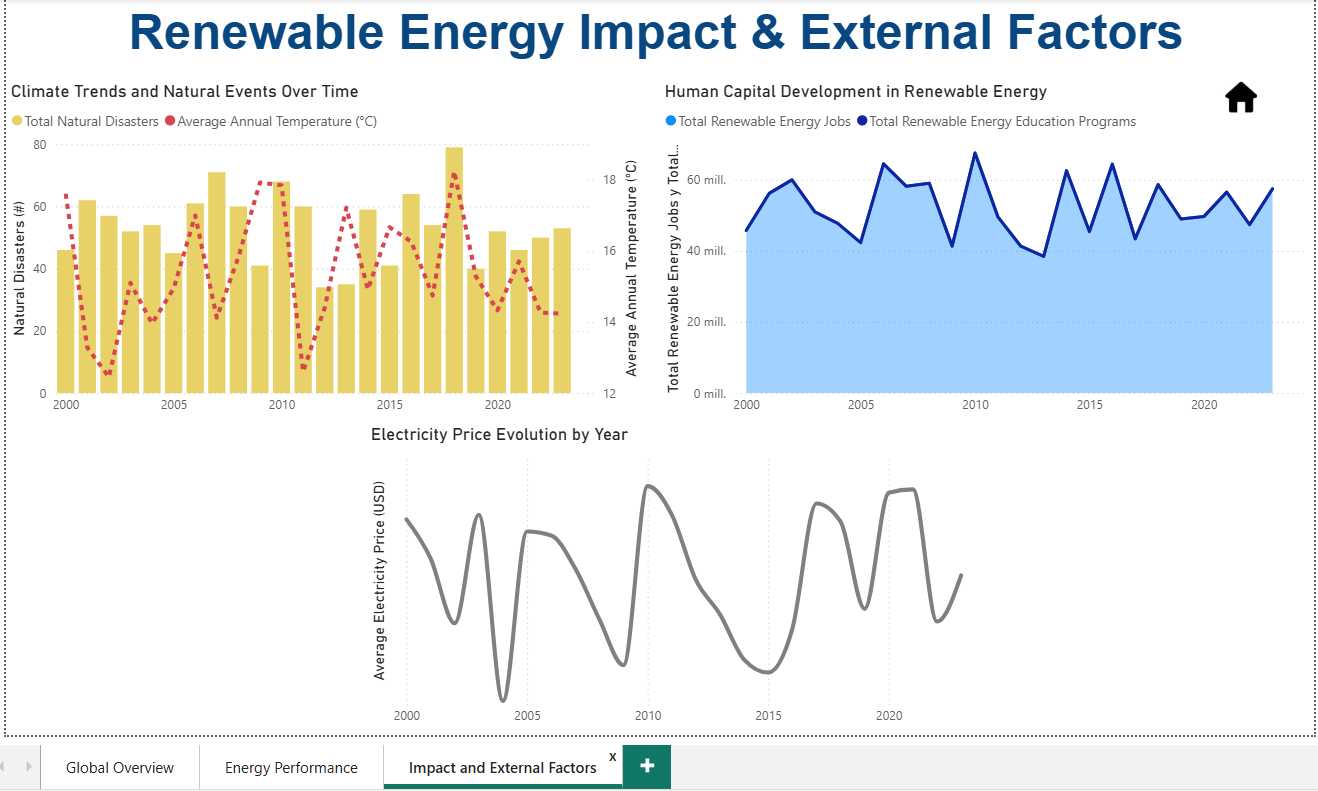

What the dashboard file says about the page in this screenshot:
{"tool":"powerbi","page":{"name":"Impact and External Factors","canvas":[1280,720],"ordinal":2},"visuals":[{"type":"stackedAreaChart","title":"Human Capital Development in Renewable Energy","fields":{"Y":["FactRenewables.Total Renewable Energy Jobs","FactRenewables.Total Renewable Energy Education Programs"],"Category":["Dim_Date.Year"]},"box":[640,80,640,336],"z":0},{"type":"lineChart","title":"Electricity Price Evolution by Year","fields":{"Y":["FactRenewables.Average Electricity Price (USD)"],"Category":["Dim_Date.Year"]},"box":[352,416,624,304],"z":1000},{"type":"lineStackedColumnComboChart","title":"Climate Trends and Natural Events Over Time","fields":{"Category":["FactRenewables.Year"],"Y2":["FactRenewables.Average Annual Temperature (°C)"],"Y":["FactRenewables.Total Natural Disasters"]},"box":[0,80,624,336],"z":2000},{"type":"textbox","box":[0,0,1272,72],"z":3000},{"type":"image","box":[1168,64,80,64],"z":7001}]}

Visuals, with their boxes on the page's 1280x720 design canvas (x1, y1, x2, y2). These are canvas units, not pixel positions in the 1318x791 screenshot, which may show the page scaled, cropped or inside an application window:
"Human Capital Development in Renewable Energy" stackedAreaChart: 640:80:1280:416
"Electricity Price Evolution by Year" lineChart: 352:416:976:720
"Climate Trends and Natural Events Over Time" lineStackedColumnComboChart: 0:80:624:416
textbox: 0:0:1272:72
image: 1168:64:1248:128
